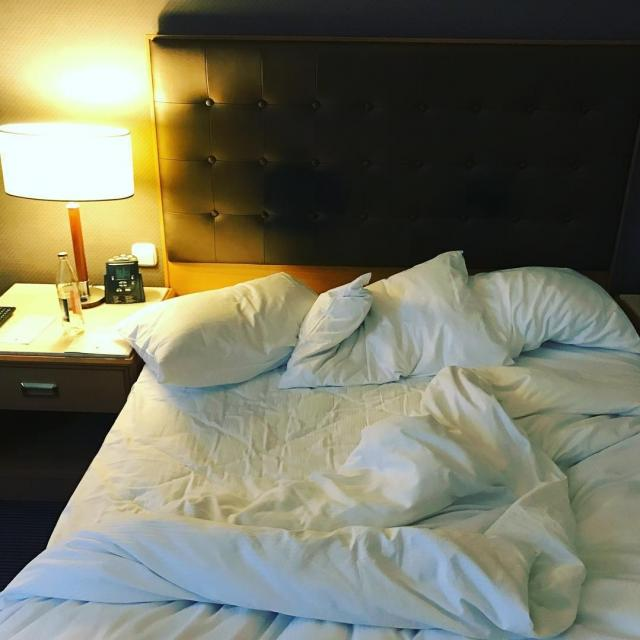bed: (51, 235, 624, 640)
